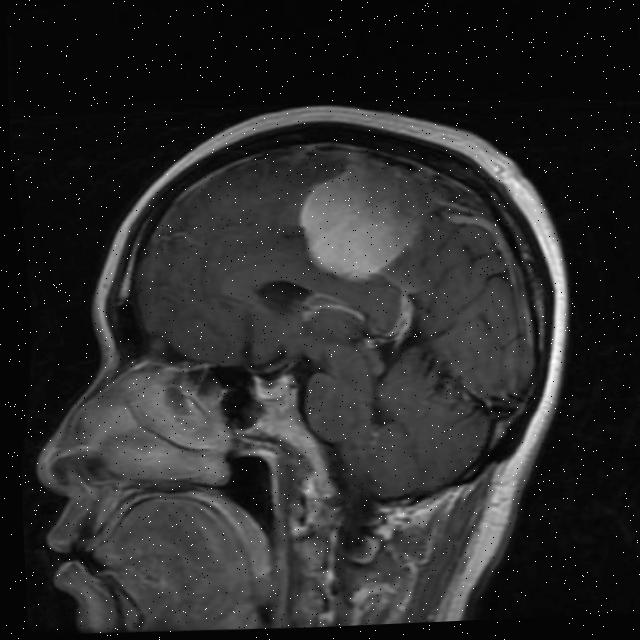Meningioma: (292, 160, 428, 286)
